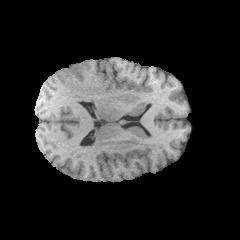glioma: (57, 63, 106, 102)
